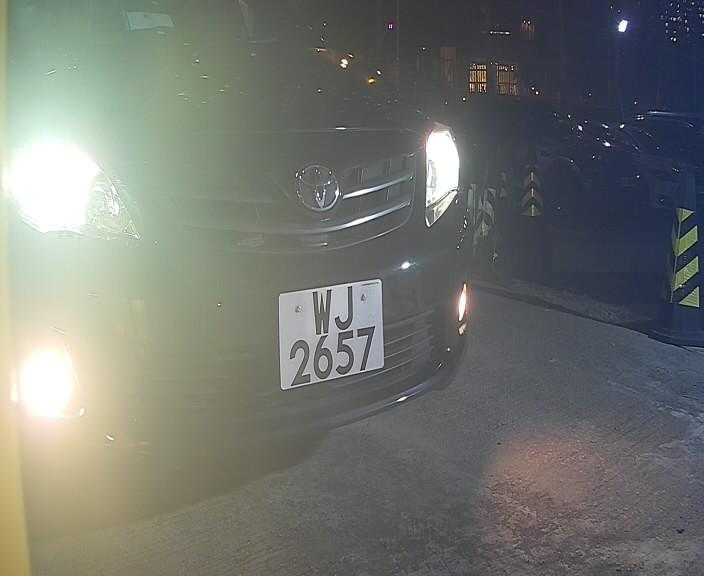privatecar: (2, 8, 517, 492)
